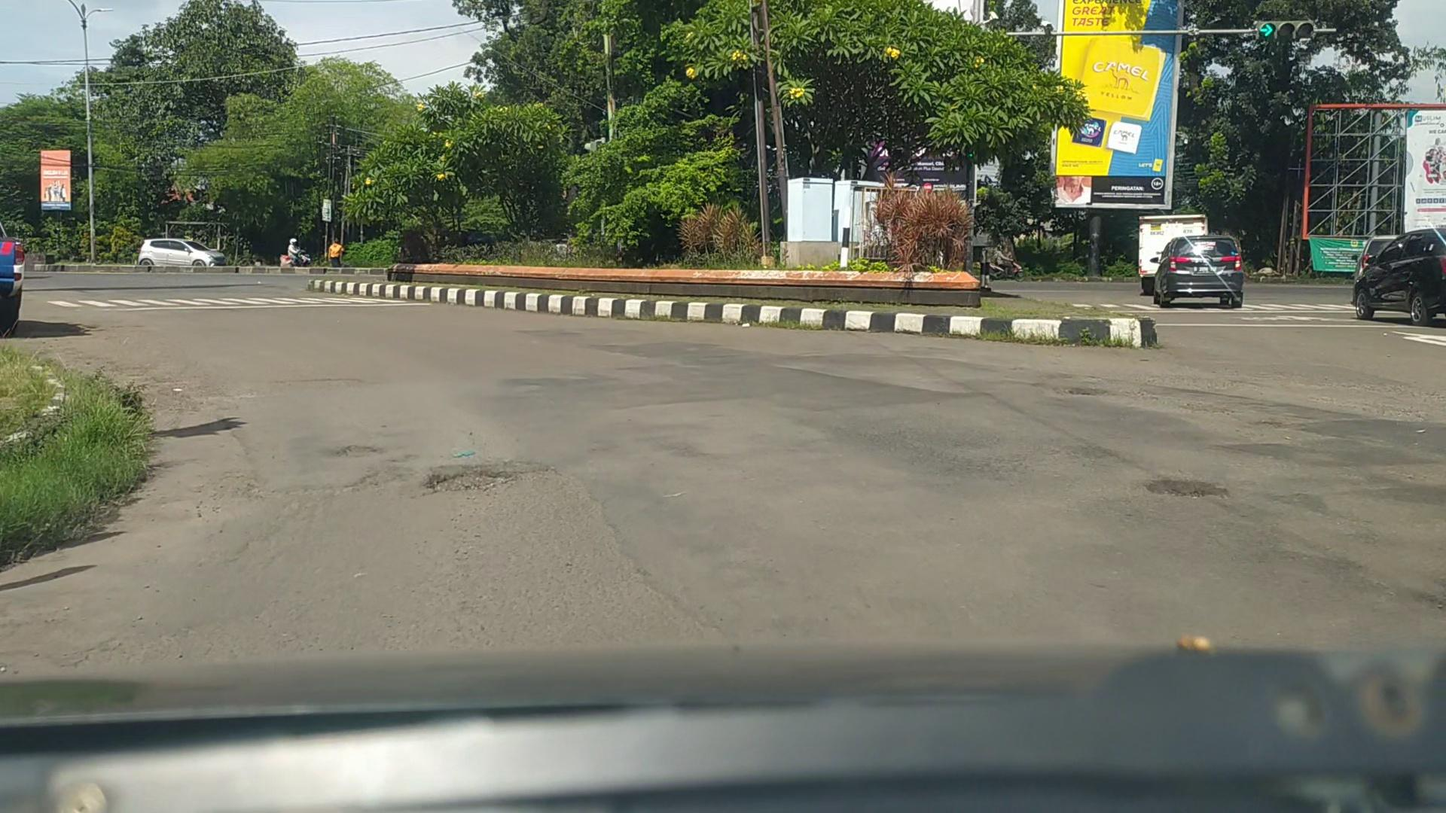pothole: (421, 467, 515, 493), (1148, 477, 1226, 499)
